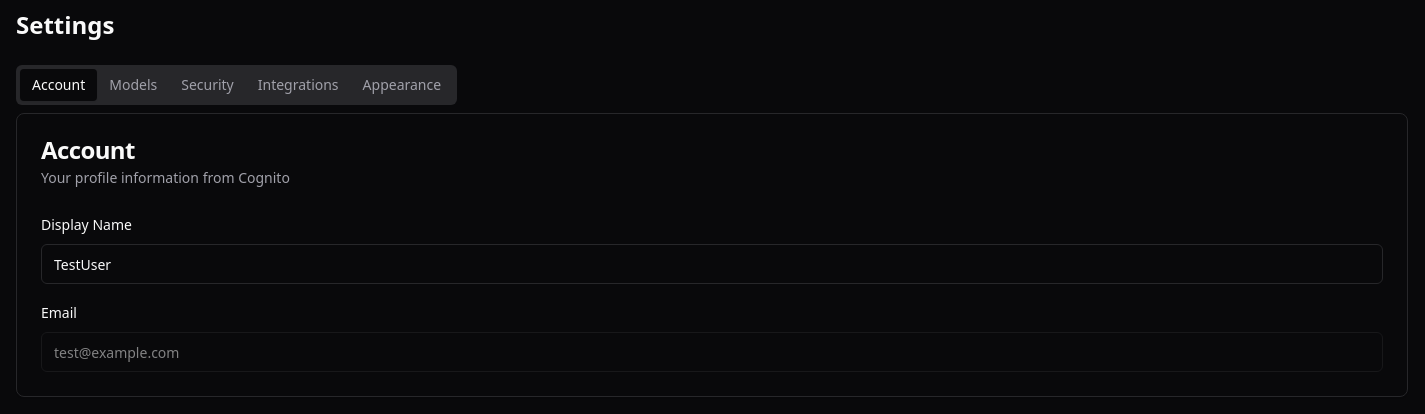
Test: SettingsPage › Appearance tab shows theme buttons
Click the tab "Appearance": (402, 85) [351, 69, 453, 101]
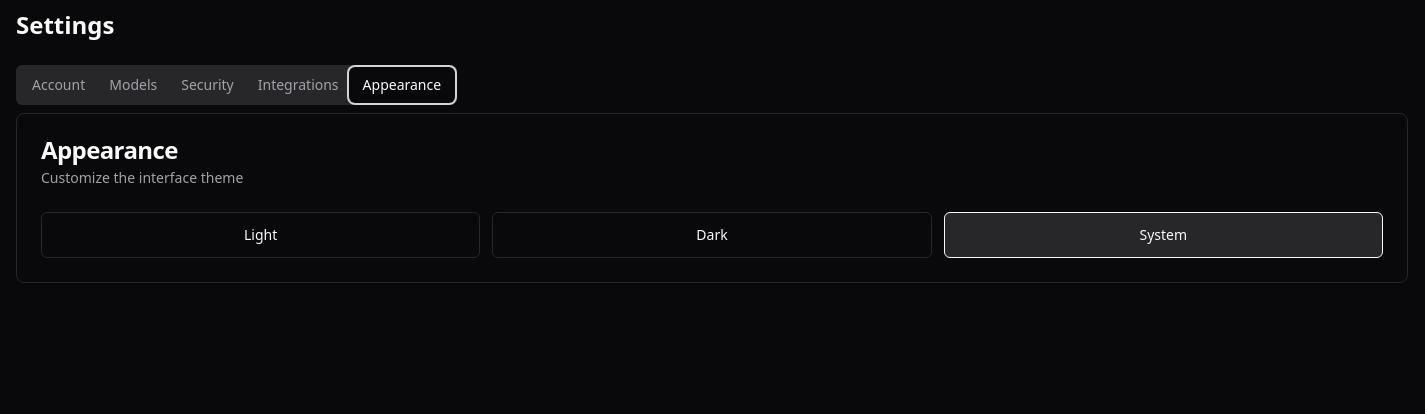
expect the button "light" is shown: met, box [41, 212, 480, 258]
expect the button "dark" is shown: met, box [492, 212, 932, 258]
expect the button "system" is shown: met, box [944, 212, 1383, 258]
